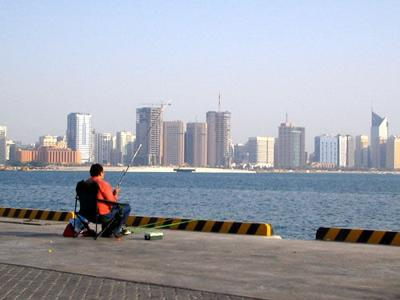person: (87, 164, 131, 240)
